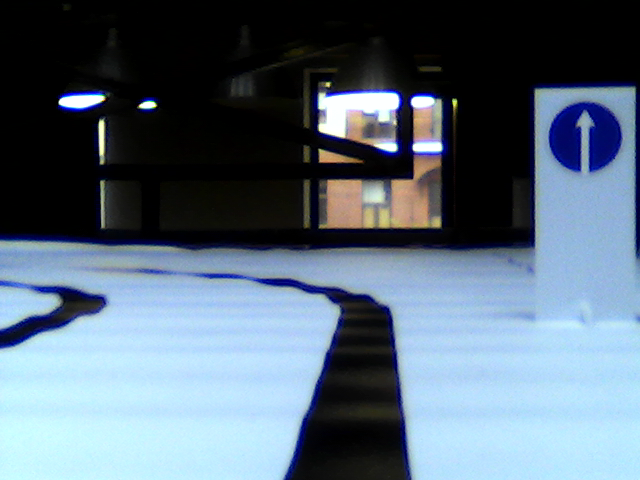forw: (547, 101, 622, 173)
